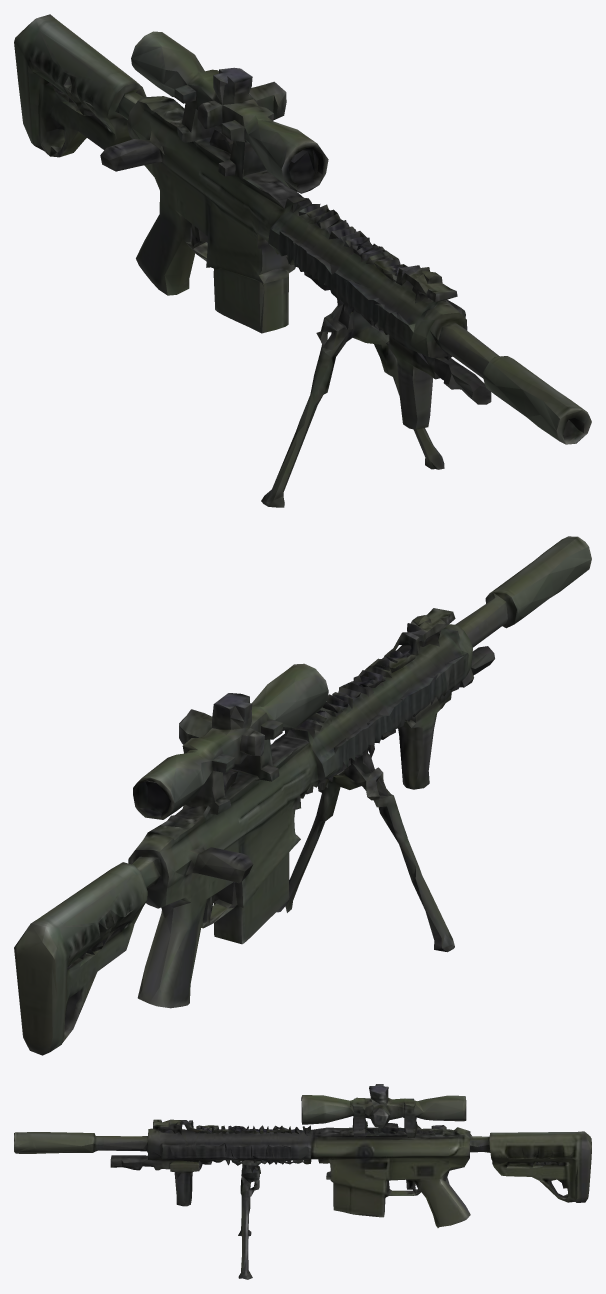
Rendered from sniper_rifle.glb.
3 views of the same model, one above another, from view 1: azimuth 30°, elevation 25°; view 2: azimuth 150°, elevation 25°; view 3: azimuth 270°, elevation 25° (orthographic). The views are drawn at different scales.
Visible parts, largest first — view 1: model; view 2: model; view 3: model.
Boxes of the visible parts, box(x1,y1,x2,y2) form: model: box(14, 14, 591, 507); model: box(14, 536, 591, 1055); model: box(14, 1084, 591, 1279).
Bounding box in the file's own units: 0.2304 × 0.3903 × 1.2.
1 material, 1 textured.
